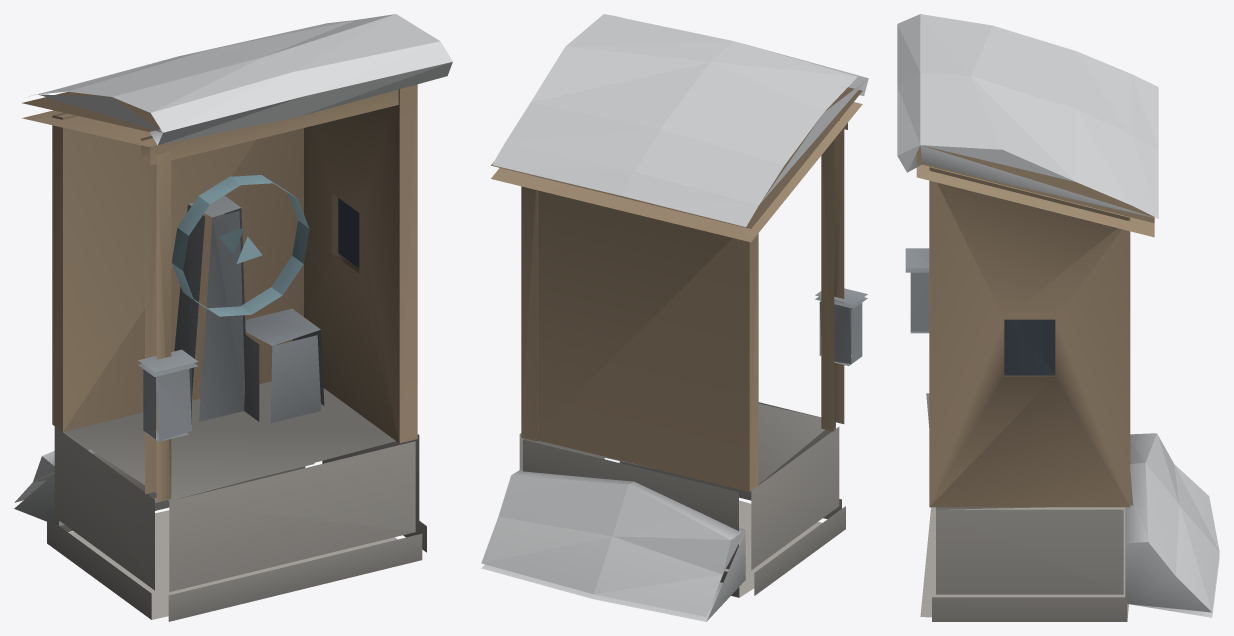
The model's file is tow.lod.glb.
The picture shows the model from 3 angles, left to right: view 1: azimuth 30°, elevation 25°; view 2: azimuth 150°, elevation 25°; view 3: azimuth 270°, elevation 25°; orthographic projection. The views are drawn at different scales.
Visible parts, largest first — view 1: tow.001; view 2: tow.001; view 3: tow.001.
Part boxes in pixels (box(x1,y1,x2,y2)): tow.001: box(14, 14, 452, 621); tow.001: box(481, 14, 868, 621); tow.001: box(897, 14, 1219, 621).
Bounding box in the file's own units: 1.64 × 2.74 × 1.65.
